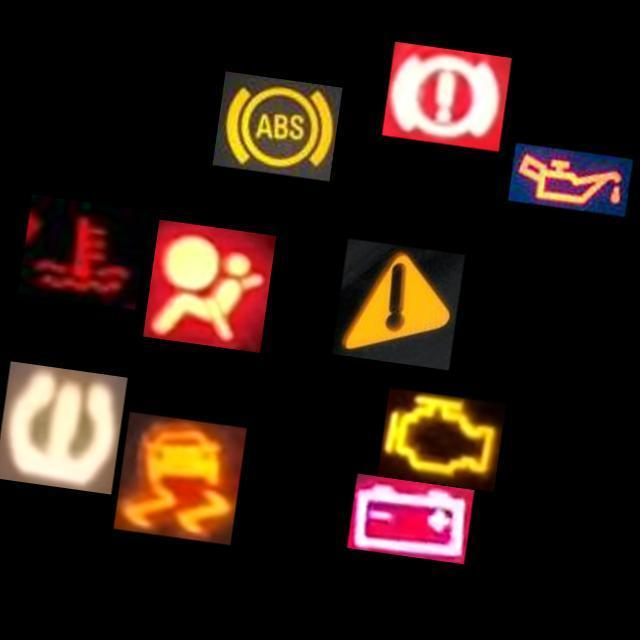Central Warning lamp: (332, 239, 465, 371)
Engine cooling system: (18, 195, 149, 310)
